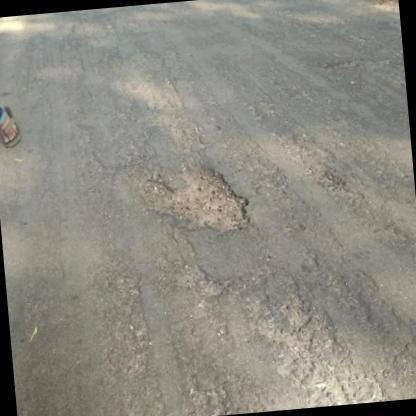pothole: (260, 296, 380, 405), (134, 162, 256, 232)
